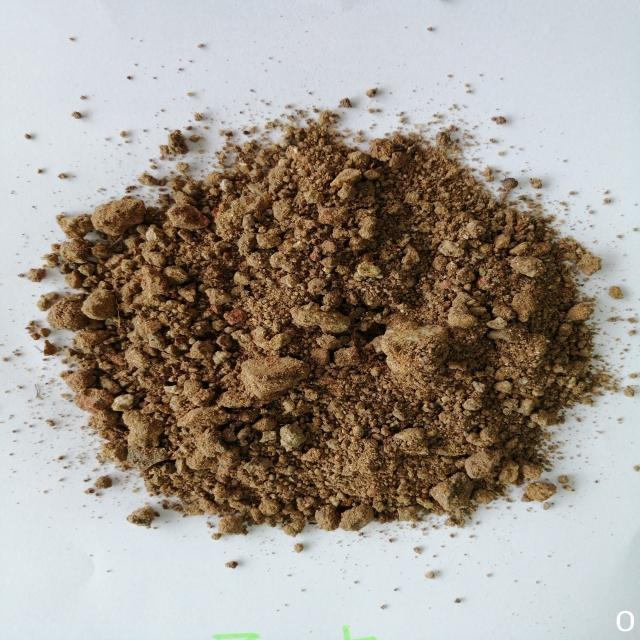soil: (148, 215, 482, 490)
